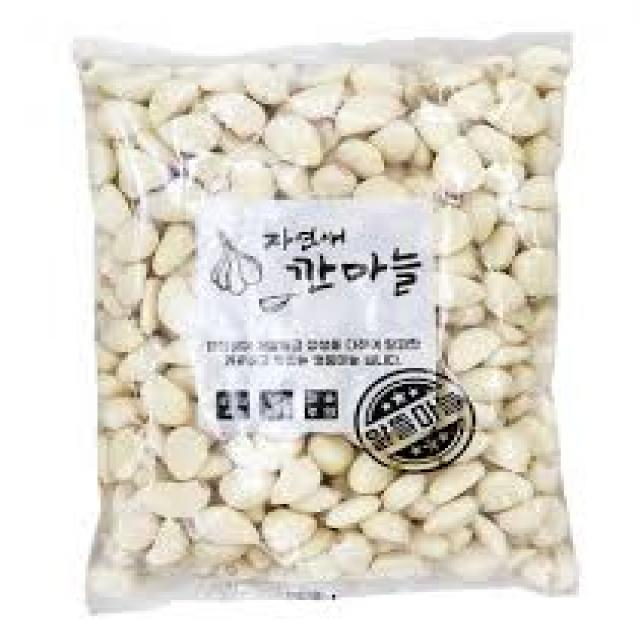garlic: (324, 61, 516, 195), (140, 66, 323, 195), (146, 435, 317, 552)
